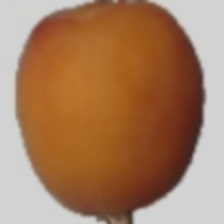apricot: (29, 16, 184, 216)
